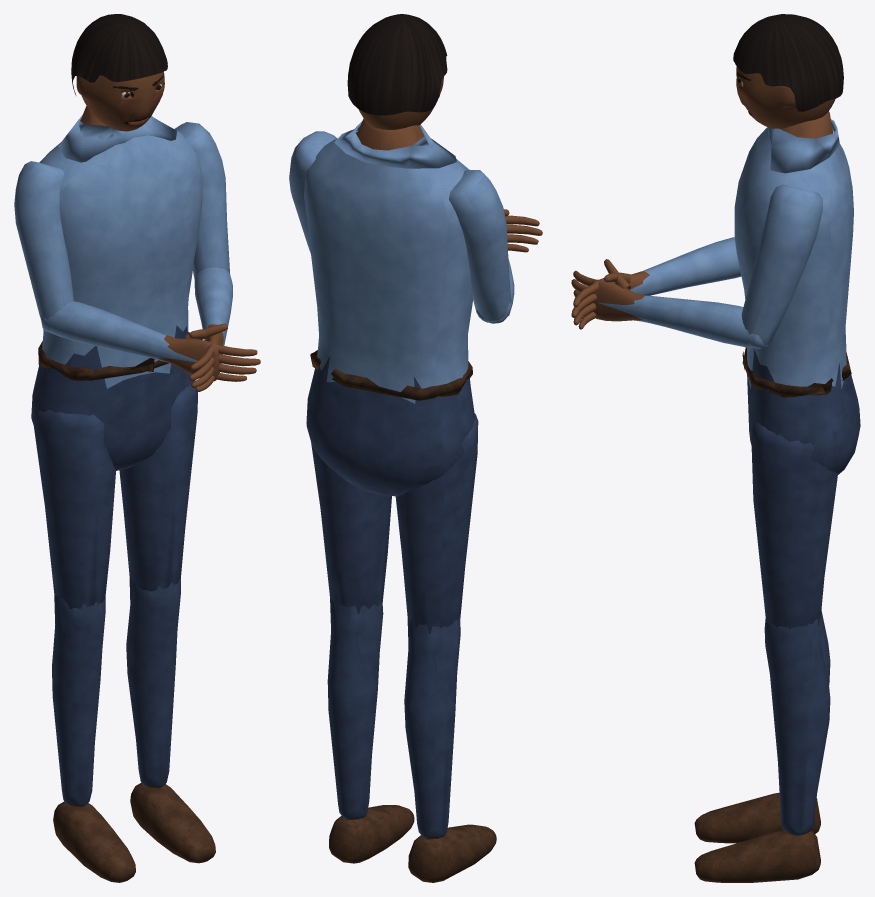
The model's file is persona_hombre_b_medio.obj.
3 views of the same model, side by side, from view 1: azimuth 30°, elevation 25°; view 2: azimuth 150°, elevation 25°; view 3: azimuth 270°, elevation 25° (orthographic). The views are drawn at different scales.
Parts seen in each view (by area): view 1: Torso, PiernaIzq, PiernaDer, MusloDer, MusloIzq, AntebrazoDer, BrazoDer, Pelo, BrazoIzq, Cabeza, AntebrazoIzq, Cuello (+1 smaller); view 2: Torso, PiernaDer, PiernaIzq, MusloDer, Pelo, MusloIzq, BrazoDer, Cuello, Cinturon, BrazoIzq, AntebrazoIzq, Cabeza; view 3: Torso, PiernaIzq, MusloIzq, BrazoIzq, Pelo, AntebrazoIzq, AntebrazoDer, PiernaDer, Cabeza, Cuello, Cinturon.
Boxes of the visible parts, x1,y1,x2,y2 form: Torso: [31, 106, 202, 470]; PiernaIzq: [126, 575, 215, 863]; PiernaDer: [52, 595, 135, 882]; MusloDer: [34, 410, 115, 609]; MusloIzq: [119, 380, 197, 591]; AntebrazoDer: [41, 301, 260, 381]; BrazoDer: [14, 161, 74, 331]; Pelo: [71, 14, 167, 95]; BrazoIzq: [174, 122, 229, 279]; Cabeza: [76, 71, 164, 131]; AntebrazoIzq: [189, 267, 232, 392]; Cuello: [58, 115, 176, 162]; Torso: [304, 118, 475, 496]; PiernaDer: [404, 616, 496, 882]; PiernaIzq: [327, 597, 414, 863]; MusloDer: [395, 413, 478, 633]; Pelo: [347, 14, 447, 115]; MusloIzq: [311, 442, 391, 614]; BrazoDer: [449, 169, 511, 322]; Cuello: [334, 121, 456, 168]; Cinturon: [310, 350, 472, 400]; BrazoIzq: [289, 131, 336, 253]; AntebrazoIzq: [504, 209, 542, 252]; Cabeza: [359, 77, 443, 129]; Torso: [734, 111, 860, 474]; PiernaIzq: [694, 615, 830, 882]; MusloIzq: [751, 421, 837, 630]; BrazoIzq: [741, 184, 822, 346]; Pelo: [733, 14, 843, 111]; AntebrazoIzq: [571, 259, 770, 348]; AntebrazoDer: [571, 237, 741, 329]; PiernaDer: [694, 610, 830, 843]; Cabeza: [736, 67, 835, 128]; Cuello: [768, 119, 839, 173]; Cinturon: [742, 347, 851, 397].
Size of the model in its own units: 0.4491 by 1.74 by 0.5407.
12 materials, 12 textured.
